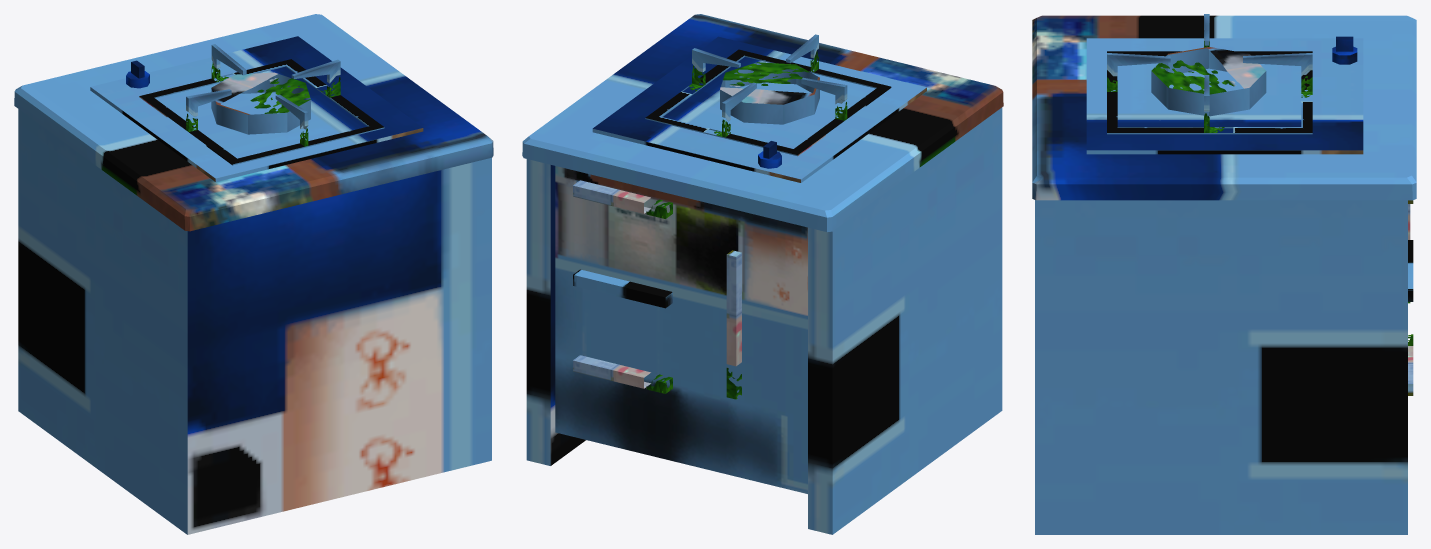
The model's file is furni_0200520.FBX.
The picture shows the model from 3 angles, left to right: view 1: azimuth 30°, elevation 25°; view 2: azimuth 150°, elevation 25°; view 3: azimuth 270°, elevation 25°; orthographic projection. The views are drawn at different scales.
Visible parts, largest first — view 1: furni_0200520; view 2: furni_0200520; view 3: furni_0200520.
Boxes of the visible parts, box(x1,y1,x2,y2) form: furni_0200520: box(14, 14, 493, 534); furni_0200520: box(522, 14, 1003, 534); furni_0200520: box(1032, 14, 1416, 534).
Size of the model in its own units: 79.98 by 89.5 by 78.22.
Materials: 1 (1 with a texture image).
